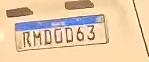Placa_mercosul_carro: (15, 14, 109, 52)
